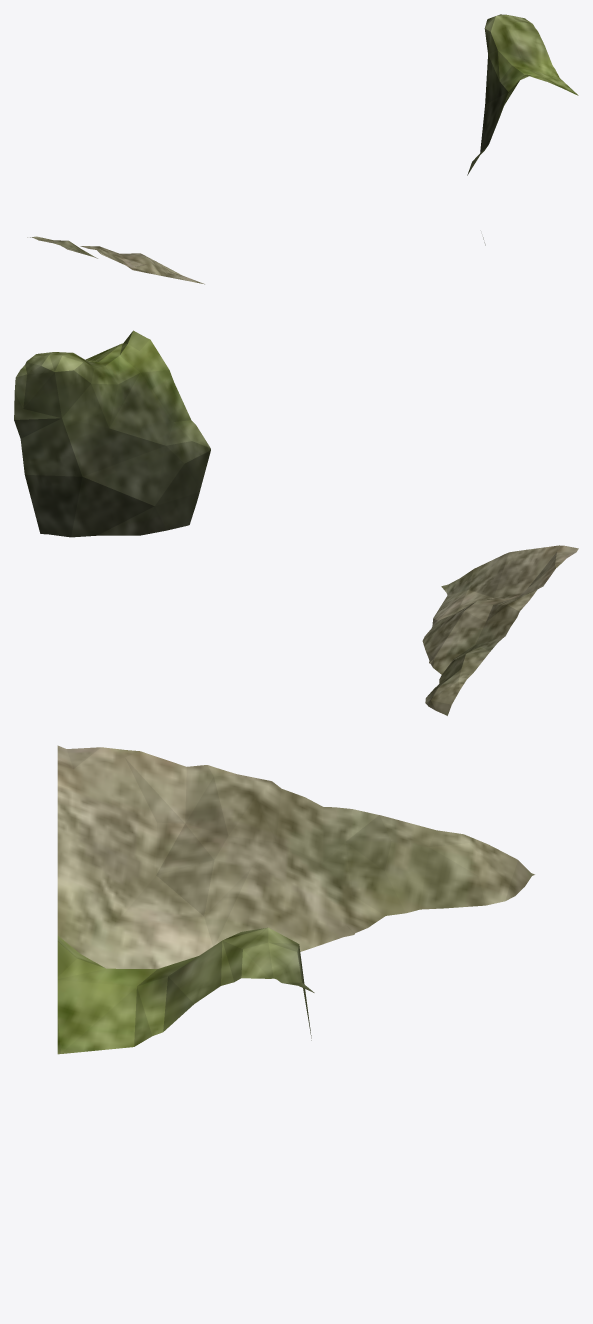
3 views of the same model, one above another, from view 1: azimuth 30°, elevation 25°; view 2: azimuth 150°, elevation 25°; view 3: azimuth 270°, elevation 25° (orthographic). The views are drawn at different scales.
Bounding box in the file's own units: 2.95 × 1.11 × 1.37.
Materials: 1 (1 with a texture image).
